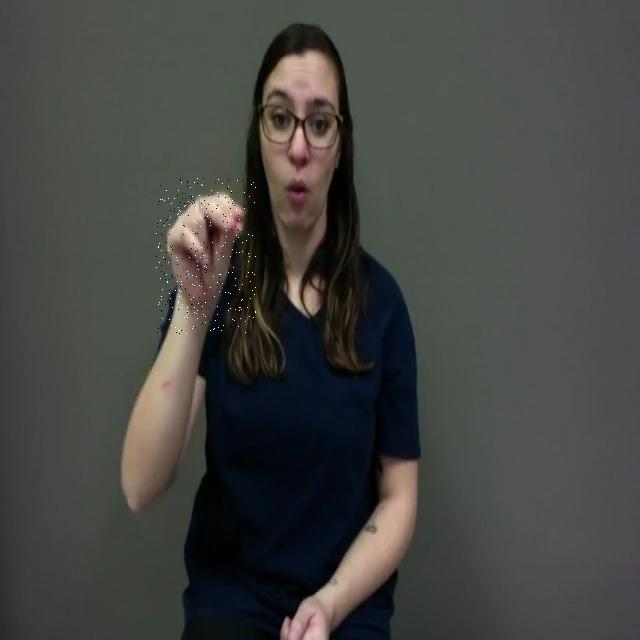no: (156, 178, 256, 334)
